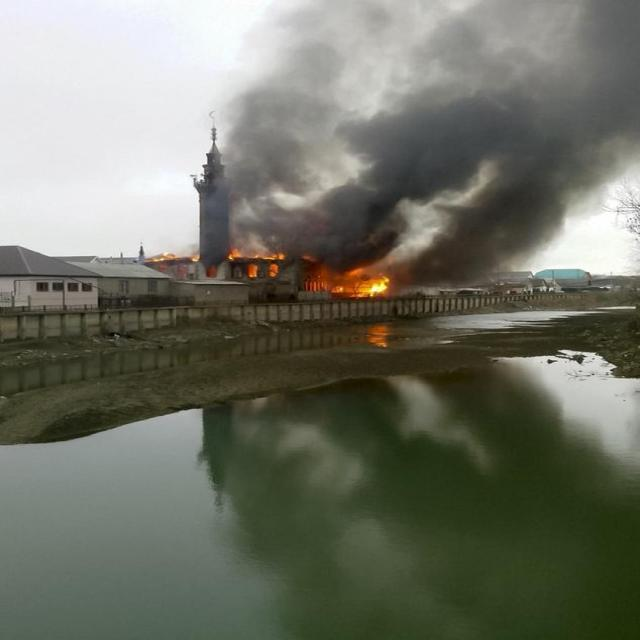Fire: (140, 228, 296, 272), (314, 260, 407, 314)
